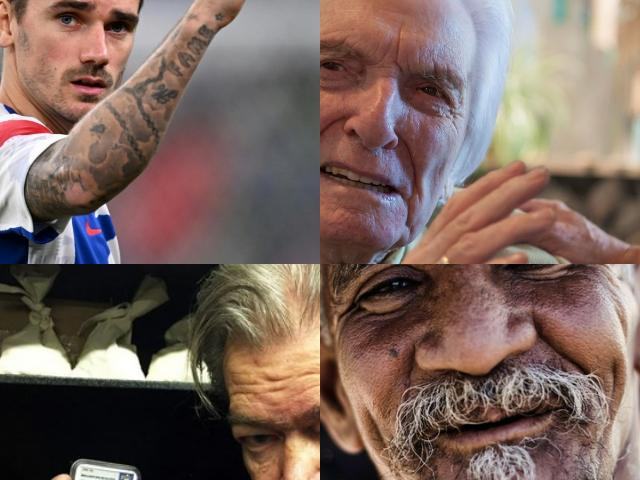crows_feet: (331, 294, 369, 328), (565, 264, 607, 278), (444, 101, 461, 127)
forehead: (227, 370, 259, 402), (258, 370, 290, 401), (320, 20, 350, 41), (296, 360, 320, 384), (428, 53, 442, 72)
frown_line: (390, 28, 406, 60), (392, 57, 408, 79)
gummy_smile: (540, 327, 592, 369), (320, 108, 345, 149), (400, 137, 422, 183), (402, 352, 418, 390)
masseter: (366, 410, 389, 454), (604, 352, 624, 394)
sad_smile: (400, 196, 414, 230)
